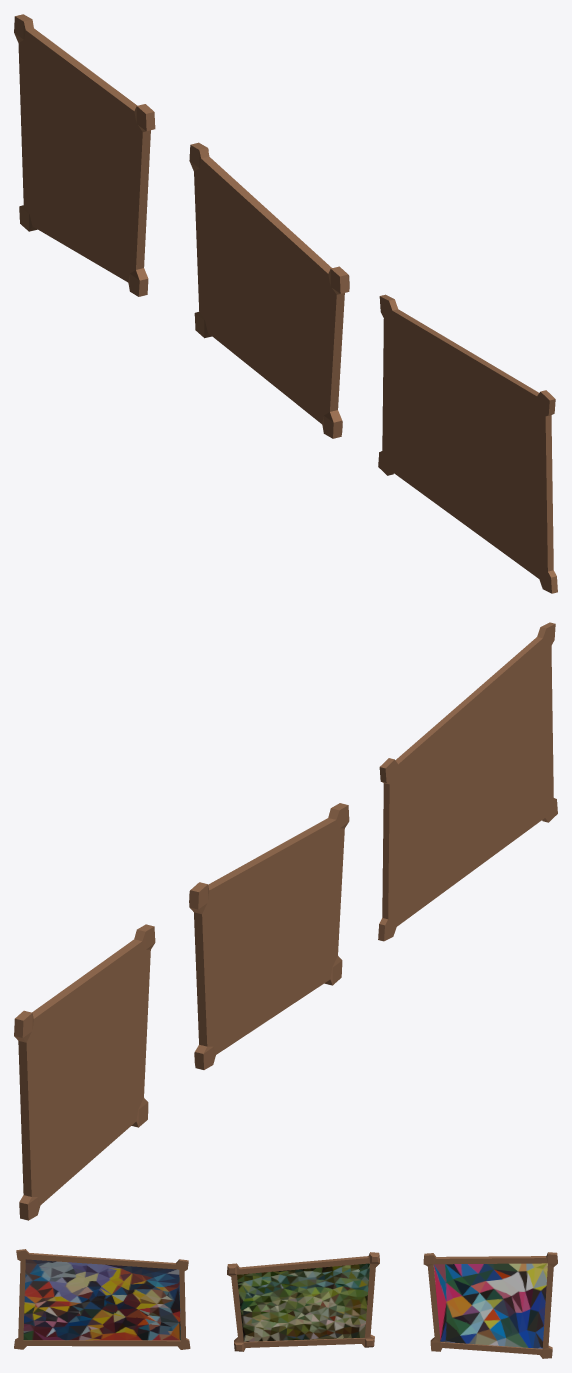
File: Marcos5.fbx
3 views of the same model, one above another, from view 1: azimuth 30°, elevation 25°; view 2: azimuth 150°, elevation 25°; view 3: azimuth 270°, elevation 25° (orthographic). The views are drawn at different scales.
Visible parts, largest first — view 1: Cube.003, Cube.005, Cube.001; view 2: Cube.003, Cube.005, Cube.001; view 3: Cube.003, Cube.005, Cube.001.
Boxes of the visible parts, x1,y1,x2,y2 form: Cube.003: [378, 294, 557, 593]; Cube.005: [189, 142, 349, 438]; Cube.001: [14, 14, 155, 296]; Cube.003: [378, 622, 557, 941]; Cube.005: [189, 803, 349, 1069]; Cube.001: [14, 924, 155, 1220]; Cube.003: [14, 1249, 190, 1349]; Cube.005: [227, 1252, 379, 1351]; Cube.001: [423, 1252, 557, 1358].
Size of the model in its own units: 5.79 by 102 by 467.
